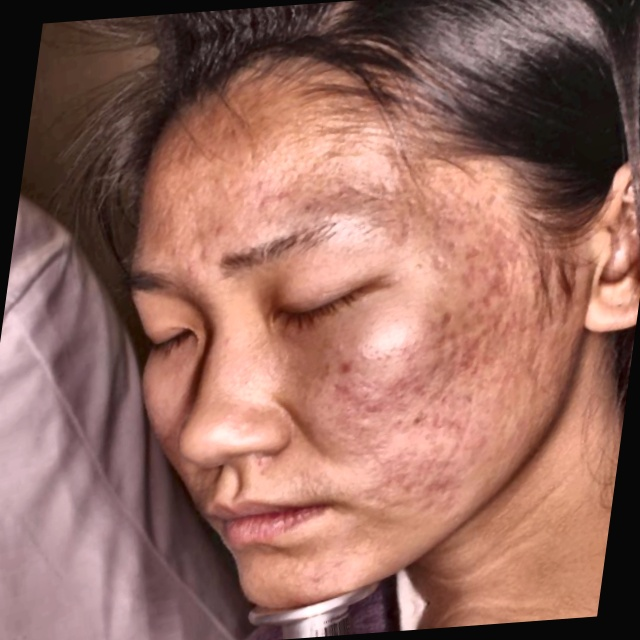comedone: (201, 217, 236, 249)
